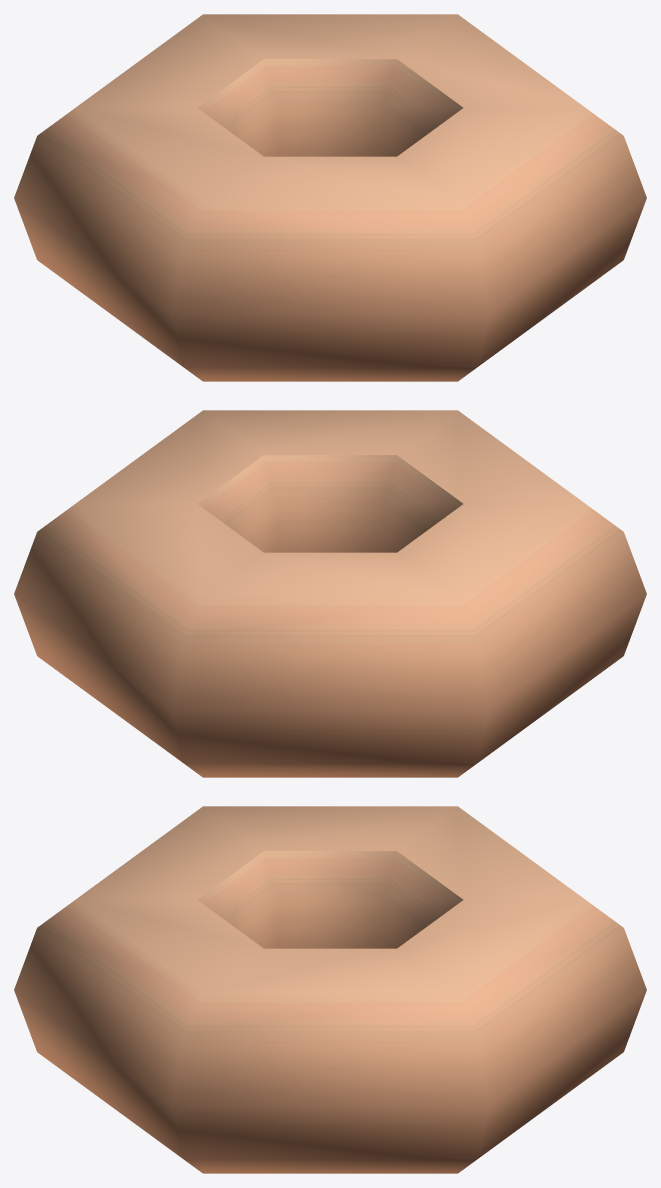
Rendered from donut.glb.
3 renders of one model, top to bottom at view 1: azimuth 30°, elevation 25°; view 2: azimuth 150°, elevation 25°; view 3: azimuth 270°, elevation 25°, orthographic.
Visible parts, largest first — view 1: donut; view 2: donut; view 3: donut.
Part boxes in pixels (x1,y1,x2,y2): donut: [14, 14, 646, 381]; donut: [14, 410, 646, 777]; donut: [14, 806, 646, 1173].
Size of the model in its own units: 0.2451 by 0.0889 by 0.283.
1 material, 1 textured.
